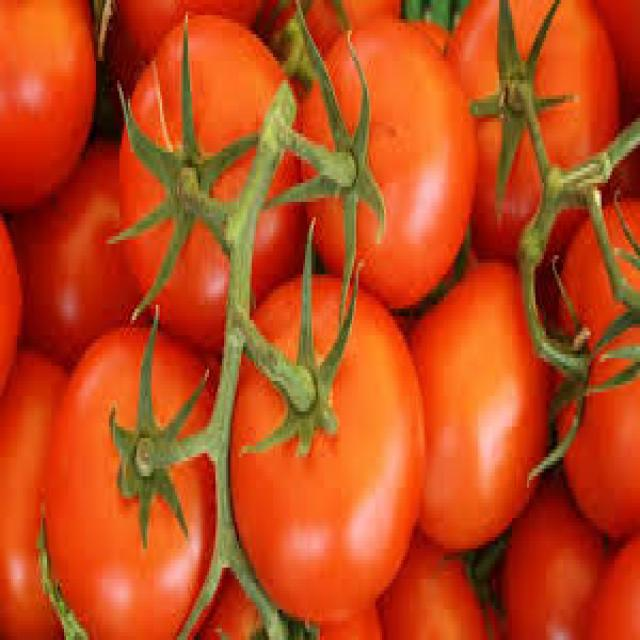Tomato: (42, 292, 230, 637), (233, 298, 424, 608), (294, 7, 473, 292)
